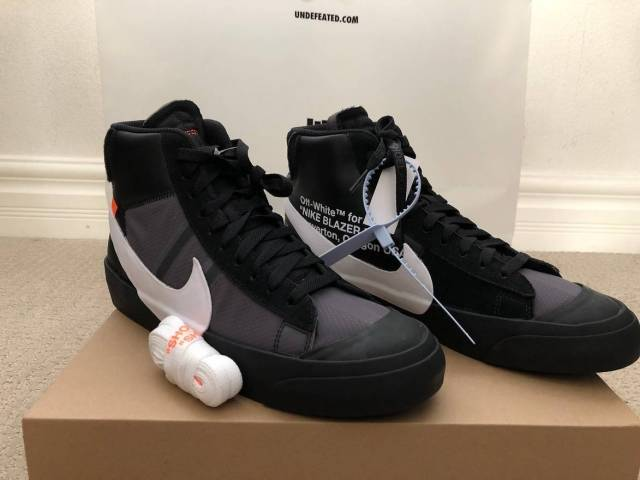Nike Blazer Grim Reaper: (77, 94, 450, 425), (280, 78, 640, 379)
